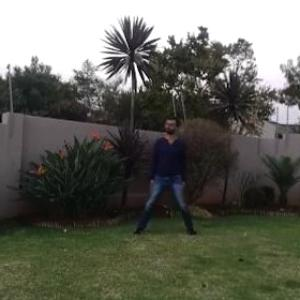follow: (149, 106, 186, 234)
